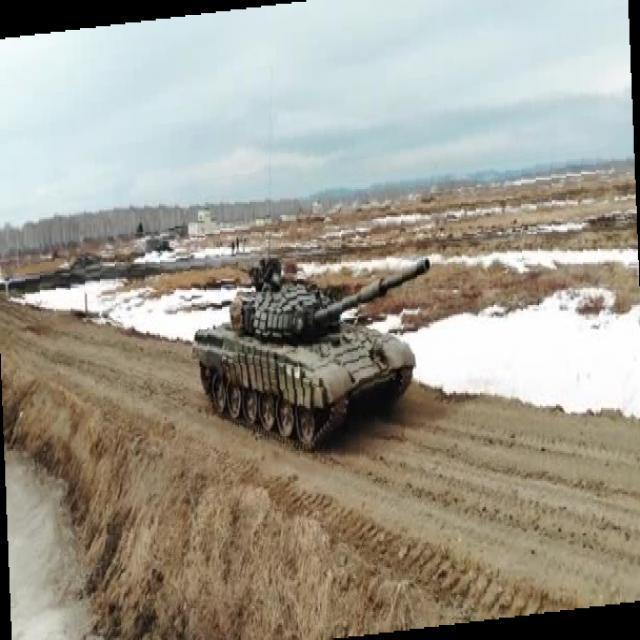Tanks: (193, 254, 430, 456)
